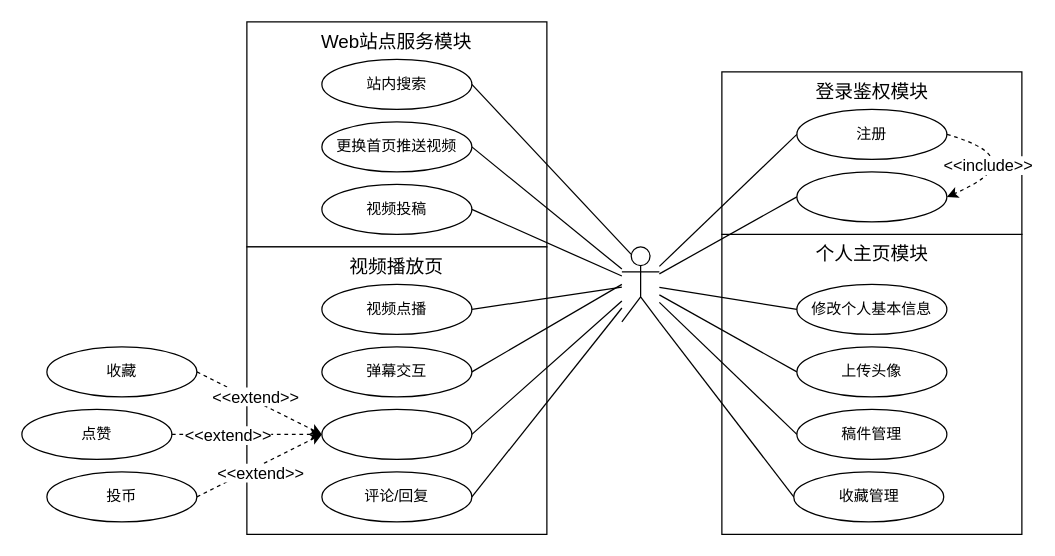
Some shapes in this 1055 by 556 pixel diagram are drawn without their labels. The shapes that lost their labels are listed below. From the top down, each one's centre as x and y in pixels, then its label:
[871,196]: 登录
[640,284]: 普通用户
[396,433]: 视频交互
